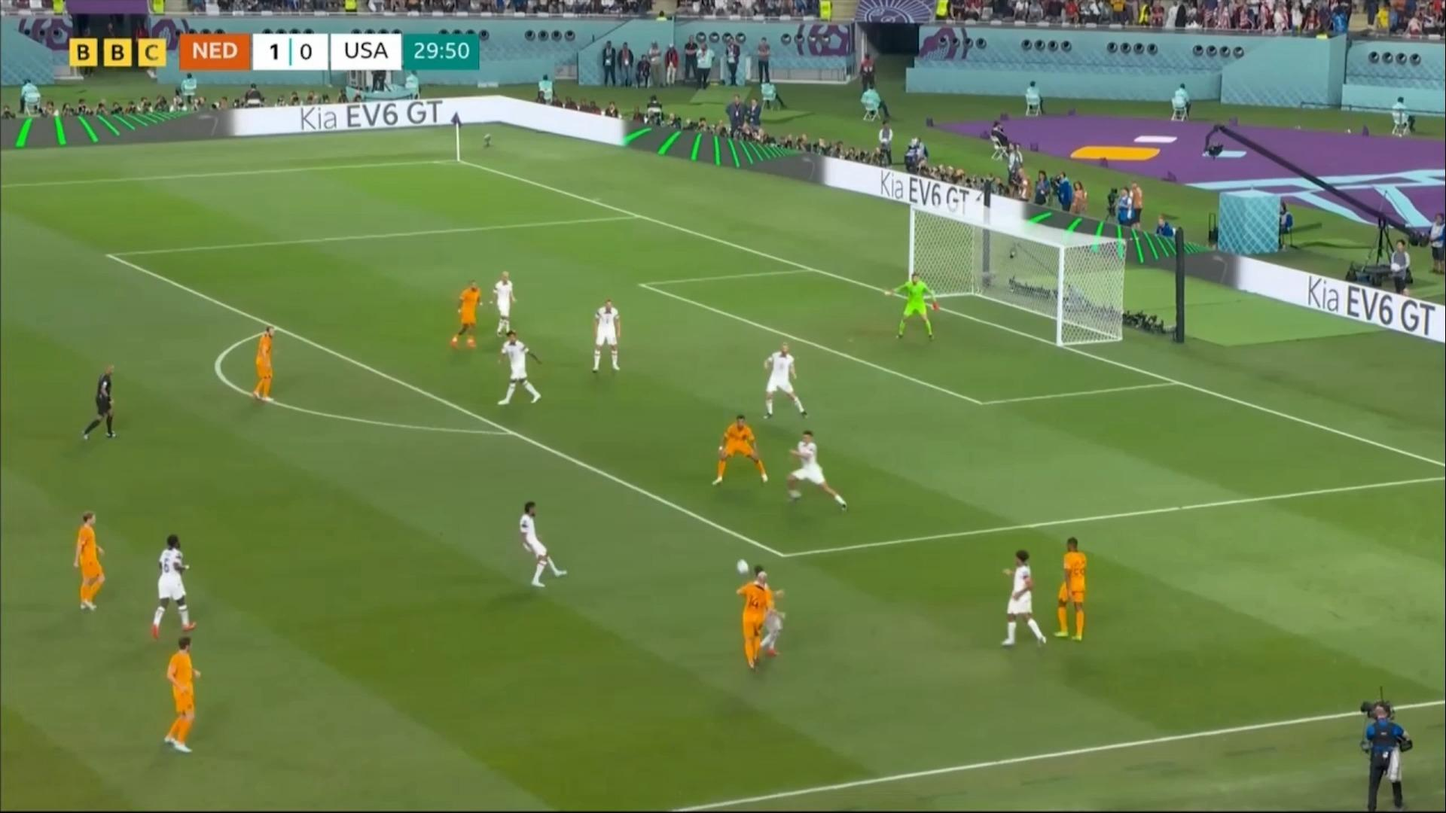Ball: (729, 557, 749, 574)
Player: (158, 636, 214, 758), (992, 549, 1053, 651), (780, 427, 848, 516), (144, 529, 199, 638), (726, 569, 781, 671), (1364, 702, 1412, 813), (510, 499, 567, 590), (72, 510, 115, 618), (714, 409, 771, 488), (1052, 536, 1094, 642), (495, 331, 547, 412), (885, 272, 940, 341), (759, 342, 804, 425), (747, 566, 787, 657), (245, 318, 286, 402), (586, 298, 628, 377), (450, 279, 489, 352), (491, 270, 524, 342)
Ref: (86, 359, 127, 446)
